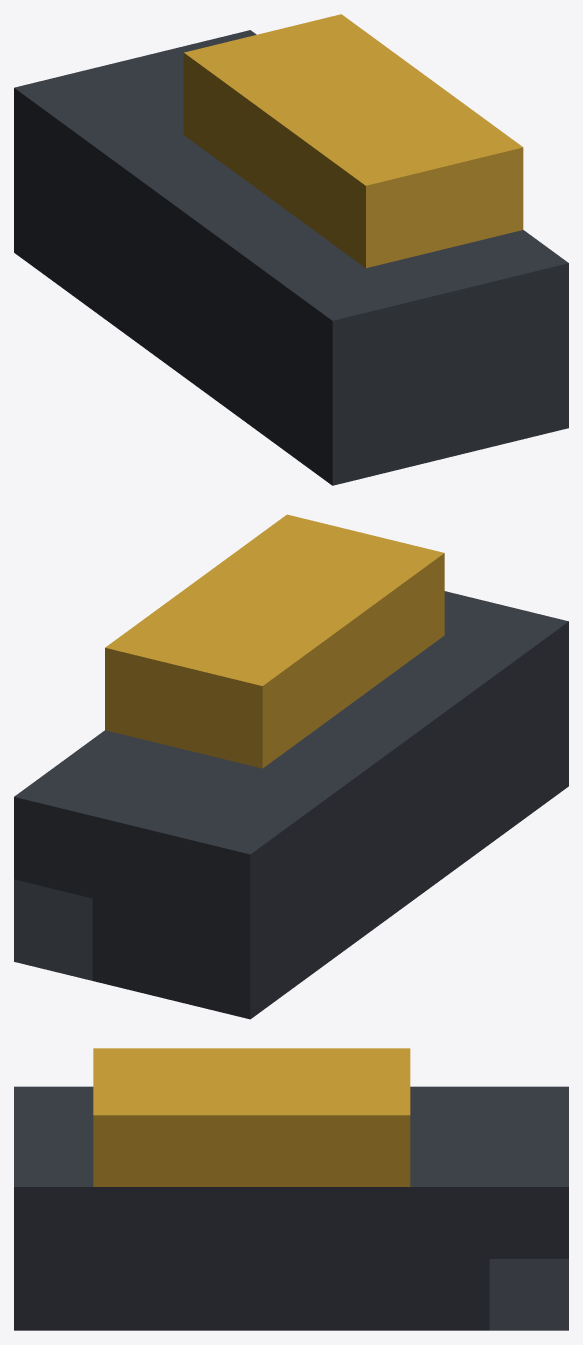
The model's file is scale_epic_boot_foot_L_lod1.glb.
The picture shows the model from 3 angles, top to bottom: view 1: azimuth 30°, elevation 25°; view 2: azimuth 150°, elevation 25°; view 3: azimuth 270°, elevation 25°; orthographic projection. The views are drawn at different scales.
Visible parts, largest first — view 1: scale_epic_boot_foot_L_lod1; view 2: scale_epic_boot_foot_L_lod1; view 3: scale_epic_boot_foot_L_lod1.
Boxes of the visible parts, box(x1,y1,x2,y2) form: scale_epic_boot_foot_L_lod1: box(14, 14, 568, 485); scale_epic_boot_foot_L_lod1: box(14, 514, 568, 1019); scale_epic_boot_foot_L_lod1: box(14, 1048, 568, 1330).
Bounding box in the file's own units: 0.144 × 0.144 × 0.336.
